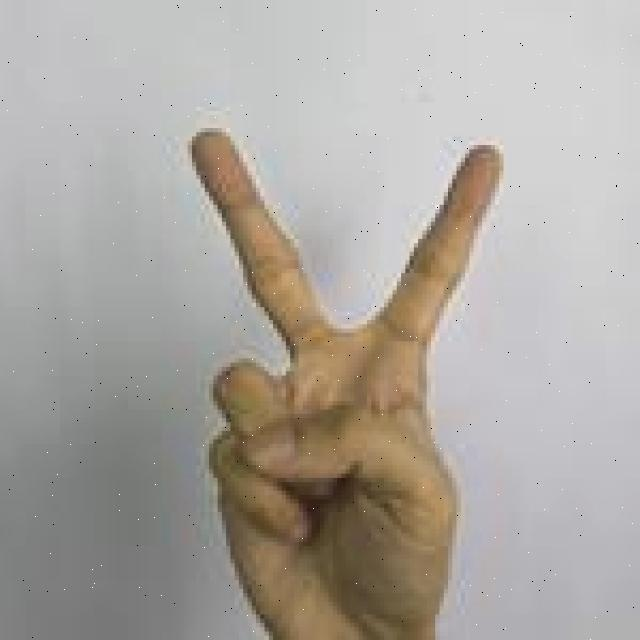V: (157, 124, 513, 640)
